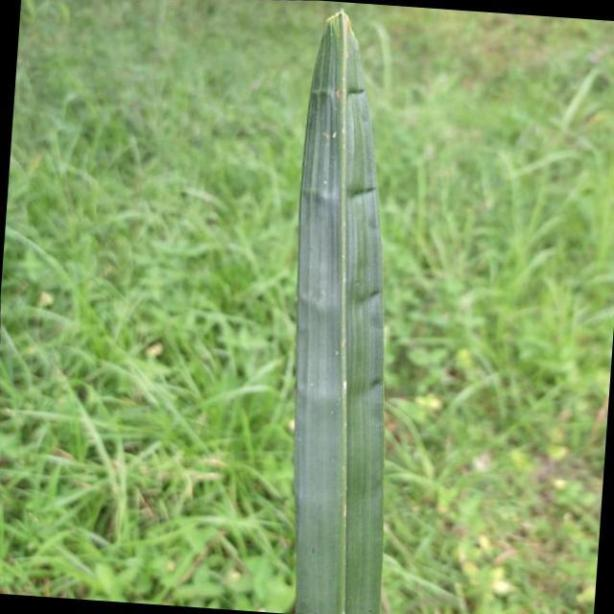Boron: (293, 0, 387, 614)
